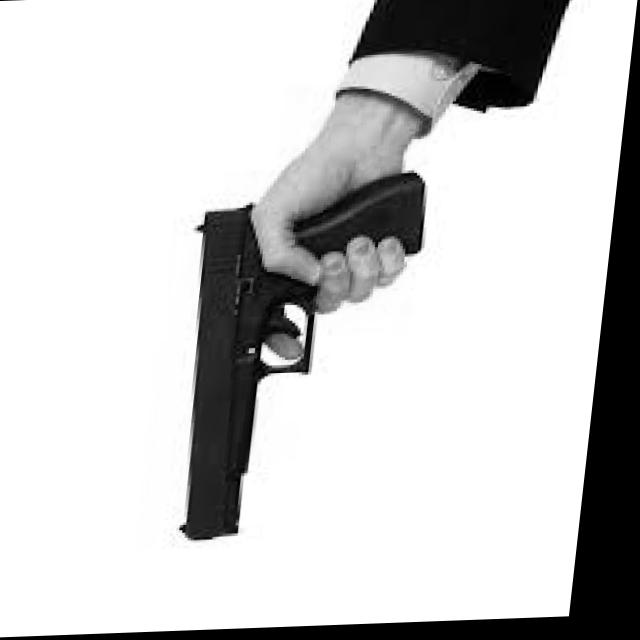handgun: (168, 162, 432, 555)
